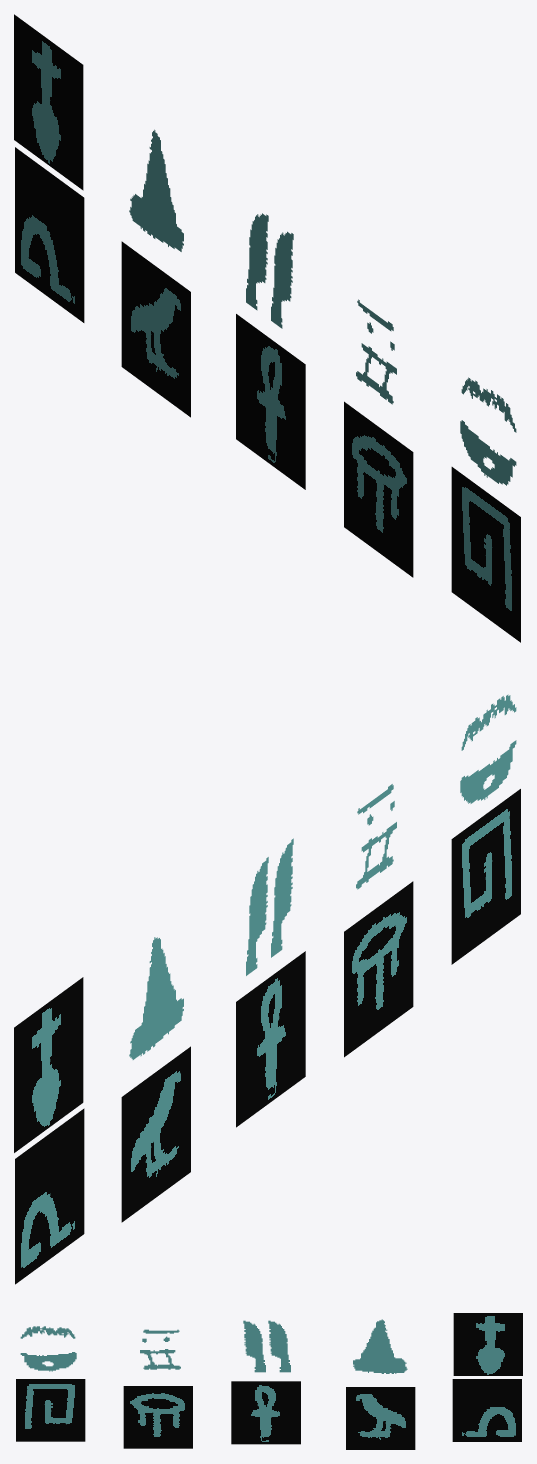
The model's file is zagadka, poświetlone.fbx.
3 renders of one model, top to bottom at view 1: azimuth 30°, elevation 25°; view 2: azimuth 150°, elevation 25°; view 3: azimuth 270°, elevation 25°, orthographic. The views are drawn at different scales.
Parts seen in each view (by area): view 1: Znak_7, Znak_6, Znak_4, Znak_9, Znak_10, Znak_3, Znak_8, Znak_5, Znak_1, Znak_2; view 2: Znak_7, Znak_6, Znak_10, Znak_4, Znak_9, Znak_3, Znak_8, Znak_5, Znak_1, Znak_2; view 3: Znak_6, Znak_9, Znak_10, Znak_7, Znak_4, Znak_3, Znak_8, Znak_5, Znak_1, Znak_2.
Boxes of the visible parts, left/top/right/bottom form: Znak_7: left=121, top=241, right=190, bottom=417; Znak_6: left=236, top=314, right=305, bottom=489; Znak_4: left=344, top=401, right=413, bottom=577; Znak_9: left=14, top=14, right=83, bottom=190; Znak_10: left=15, top=147, right=84, bottom=322; Znak_3: left=451, top=467, right=520, bottom=642; Znak_8: left=129, top=129, right=183, bottom=251; Znak_5: left=246, top=213, right=293, bottom=328; Znak_1: left=460, top=377, right=516, bottom=485; Znak_2: left=356, top=299, right=396, bottom=404; Znak_7: left=121, top=1046, right=190, bottom=1222; Znak_6: left=236, top=951, right=305, bottom=1127; Znak_10: left=15, top=1108, right=84, bottom=1284; Znak_4: left=344, top=881, right=413, bottom=1057; Znak_9: left=14, top=977, right=83, bottom=1152; Znak_3: left=451, top=789, right=520, bottom=964; Znak_8: left=129, top=937, right=183, bottom=1059; Znak_5: left=246, top=838, right=293, bottom=975; Znak_1: left=460, top=694, right=516, bottom=803; Znak_2: left=356, top=784, right=396, bottom=889; Znak_6: left=231, top=1381, right=300, bottom=1444; Znak_9: left=453, top=1313, right=522, bottom=1375; Znak_10: left=452, top=1379, right=521, bottom=1441; Znak_7: left=346, top=1387, right=415, bottom=1449; Znak_4: left=123, top=1386, right=192, bottom=1448; Znak_3: left=16, top=1379, right=85, bottom=1441; Znak_8: left=353, top=1319, right=407, bottom=1373; Znak_5: left=243, top=1320, right=290, bottom=1372; Znak_1: left=20, top=1326, right=76, bottom=1371; Znak_2: left=140, top=1329, right=180, bottom=1369.
Bounding box in the file's own units: 0 × 205 × 60.87.
